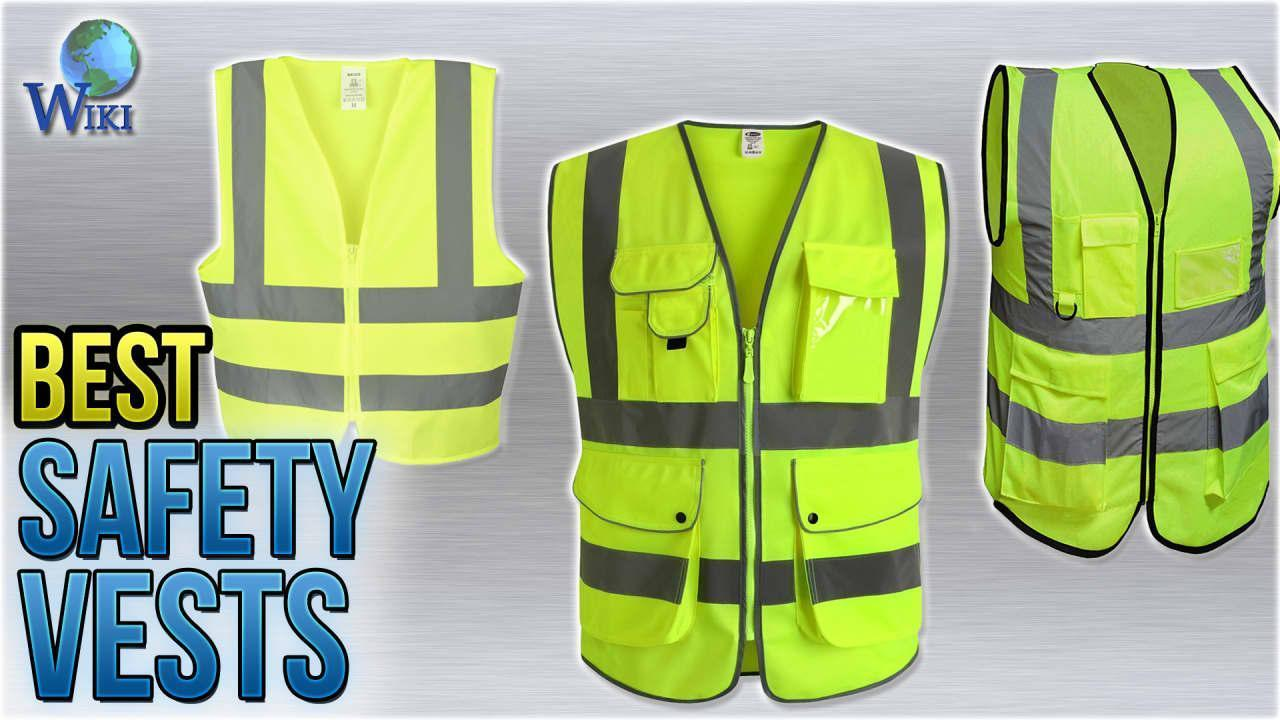vest: (549, 123, 951, 704), (983, 59, 1278, 562), (184, 59, 531, 466)
